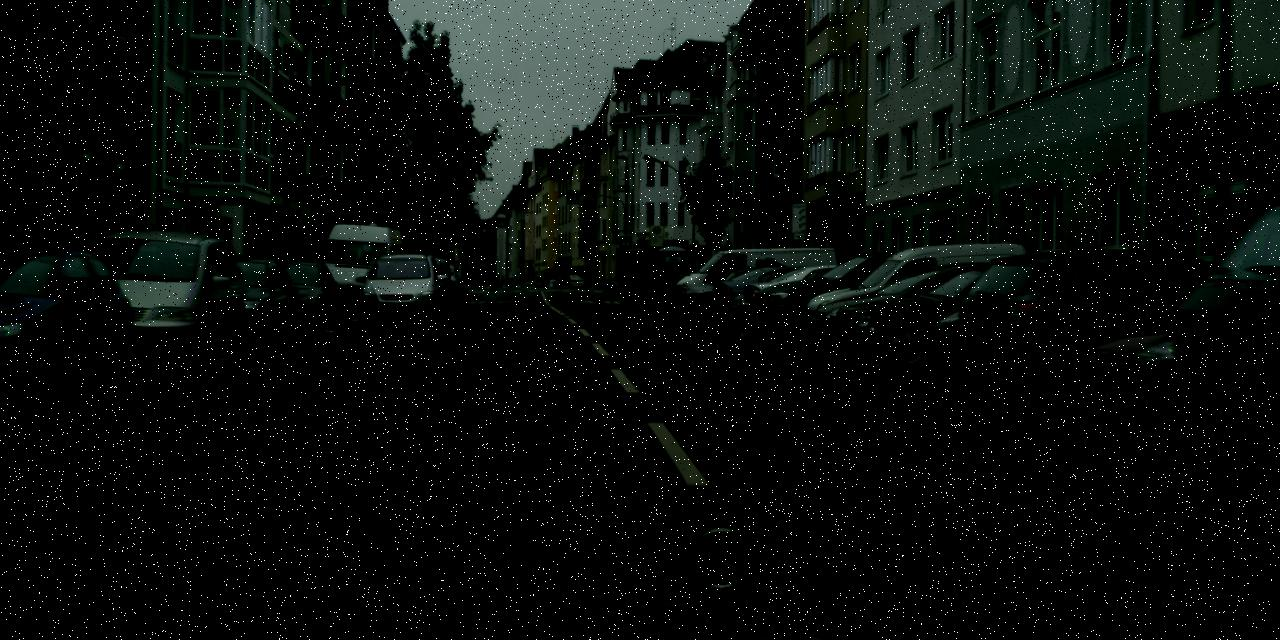ped: (622, 258, 635, 290)
